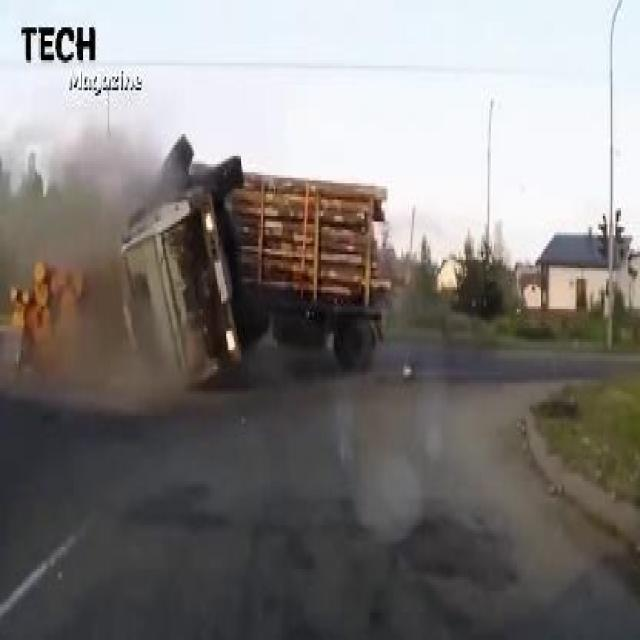accident: (0, 145, 388, 388)
